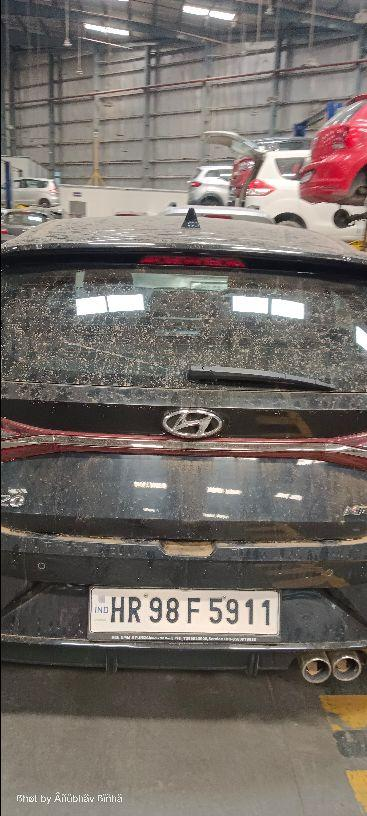license_plate: (85, 584, 281, 642)
